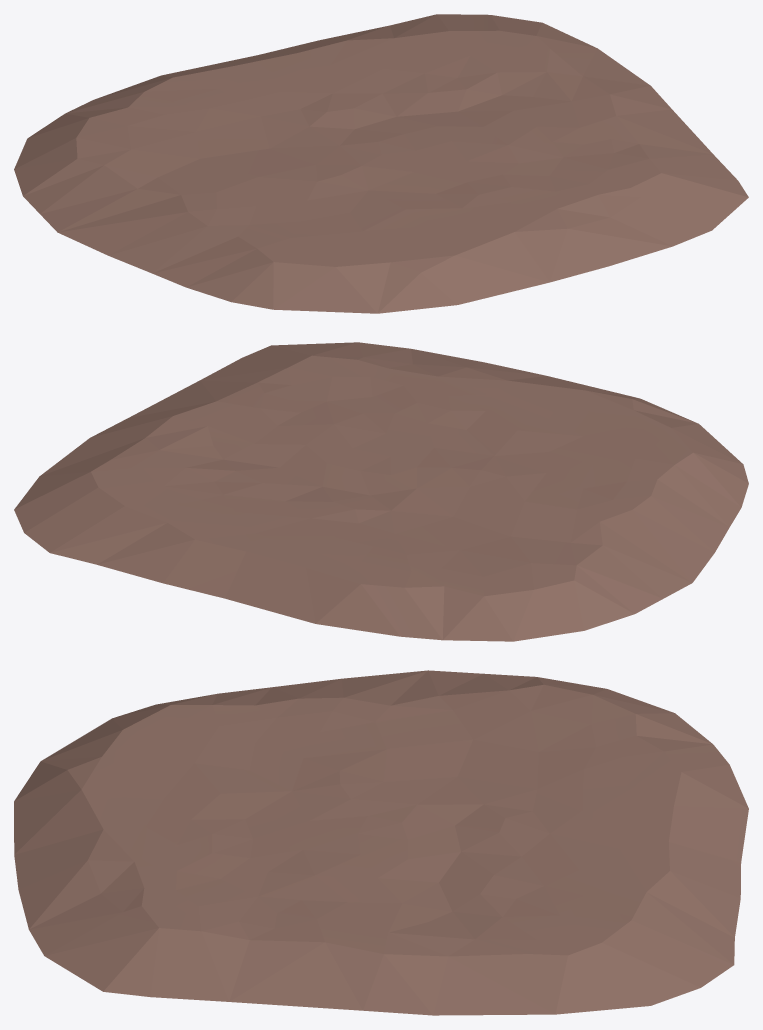
The model's file is land_003.fbx.
The picture shows the model from 3 angles, top to bottom: view 1: azimuth 30°, elevation 25°; view 2: azimuth 150°, elevation 25°; view 3: azimuth 270°, elevation 25°; orthographic projection. The views are drawn at different scales.
Parts seen in each view (by area): view 1: land_003; view 2: land_003; view 3: land_003.
Part boxes in pixels (left/top/right/bottom): land_003: left=14, top=14, right=748, bottom=313; land_003: left=14, top=342, right=748, bottom=641; land_003: left=14, top=670, right=748, bottom=1015.
Size of the model in its own units: 4523 by 4071 by 178.
